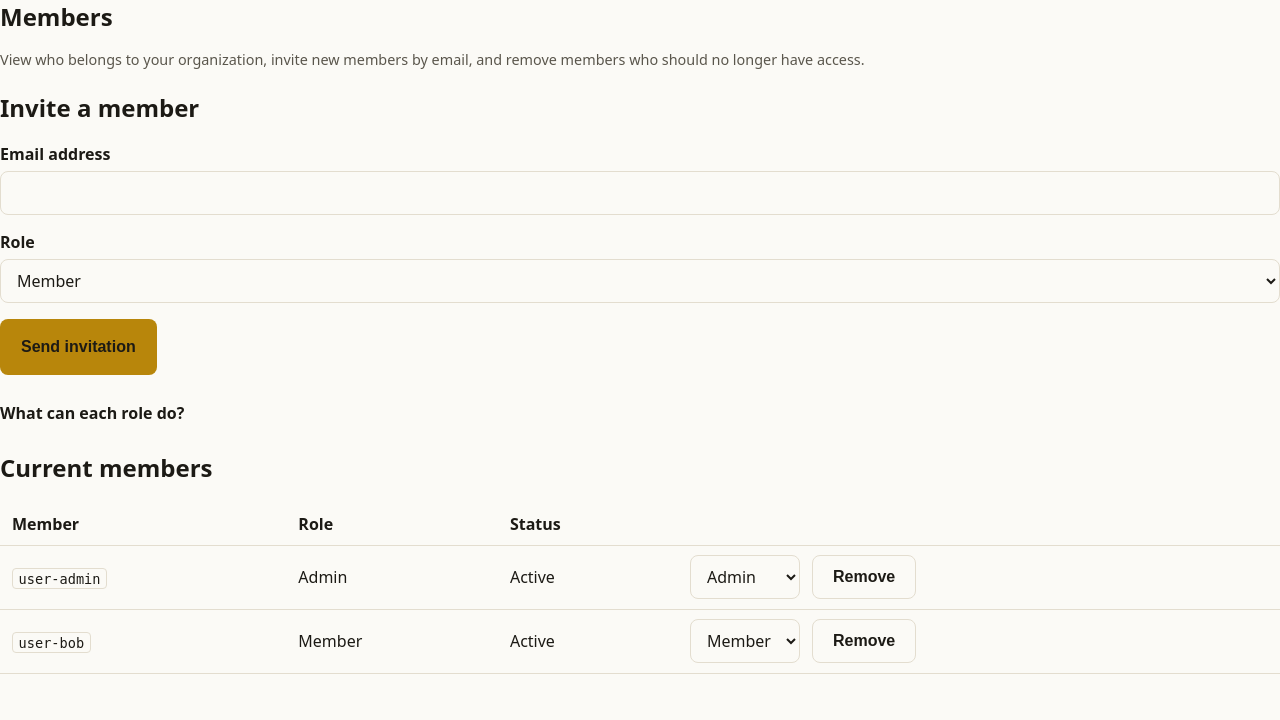
Test case: MemberManagement — remove (FR-TEN-2, NFR-ROL-1) › removes a member after an explicit confirmation step (destructive action)
Expected: the text "user-bob" is shown, [12, 632, 91, 653]
Click the button with aria-label "remove member user-bob" at (864, 642), box [812, 620, 916, 664]
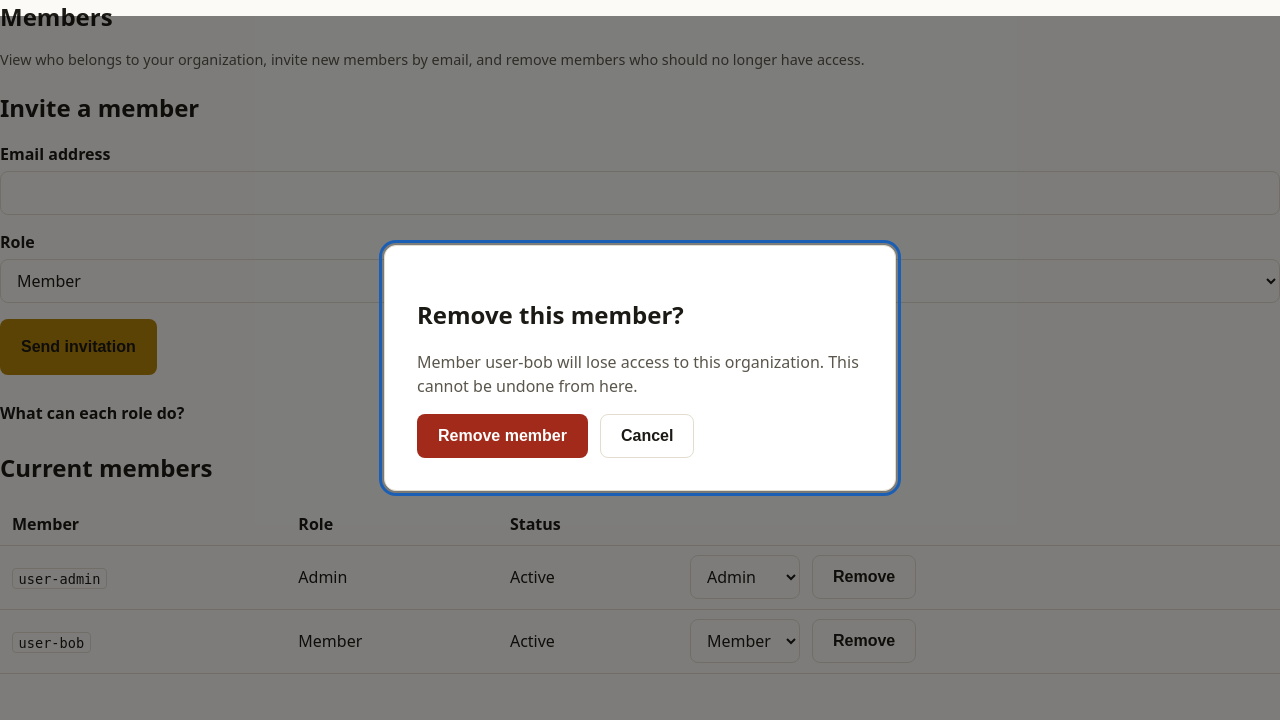
Click the button "Remove member" at (502, 436), box [417, 414, 588, 458]
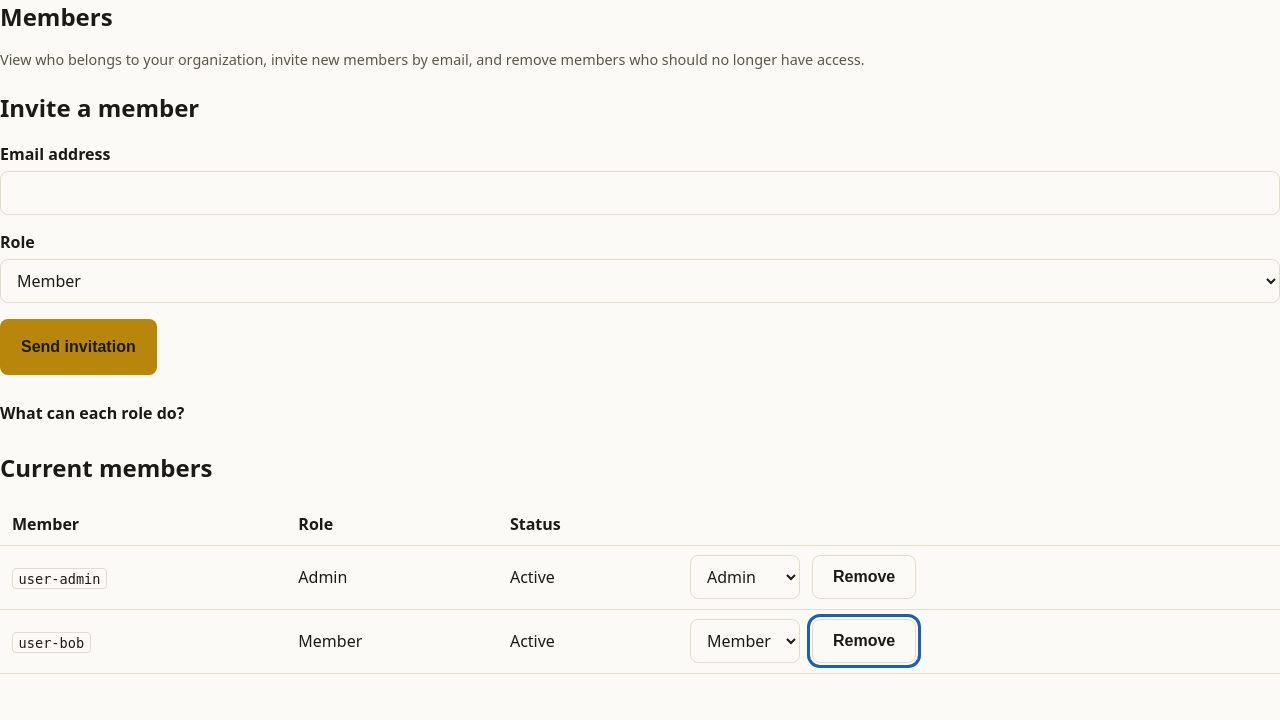
Result: the dialog is gone
